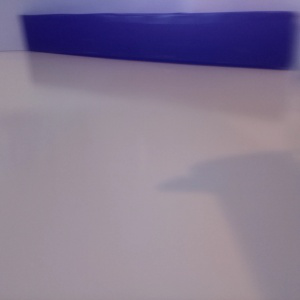zone: (20, 11, 291, 69)
